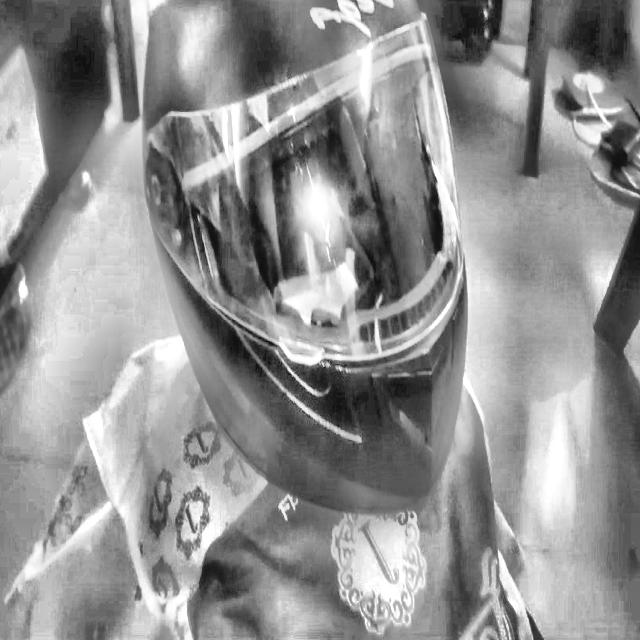Helmet: (137, 0, 471, 516)
